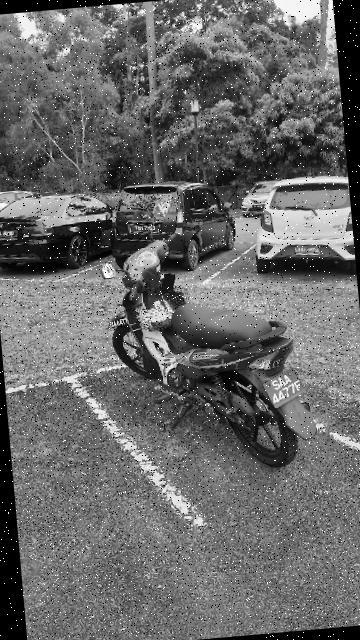License_Plate: (265, 366, 310, 411), (289, 236, 329, 260), (128, 219, 163, 241), (1, 227, 22, 242)
car: (101, 172, 256, 281), (250, 172, 358, 284), (1, 183, 117, 285)
motorcycle: (81, 197, 323, 491)
